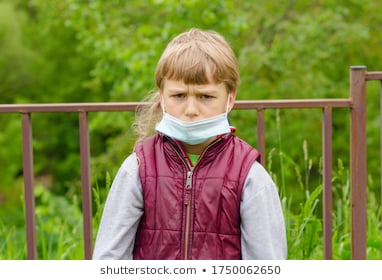mask_weared_incorrect: (162, 86, 224, 142)
